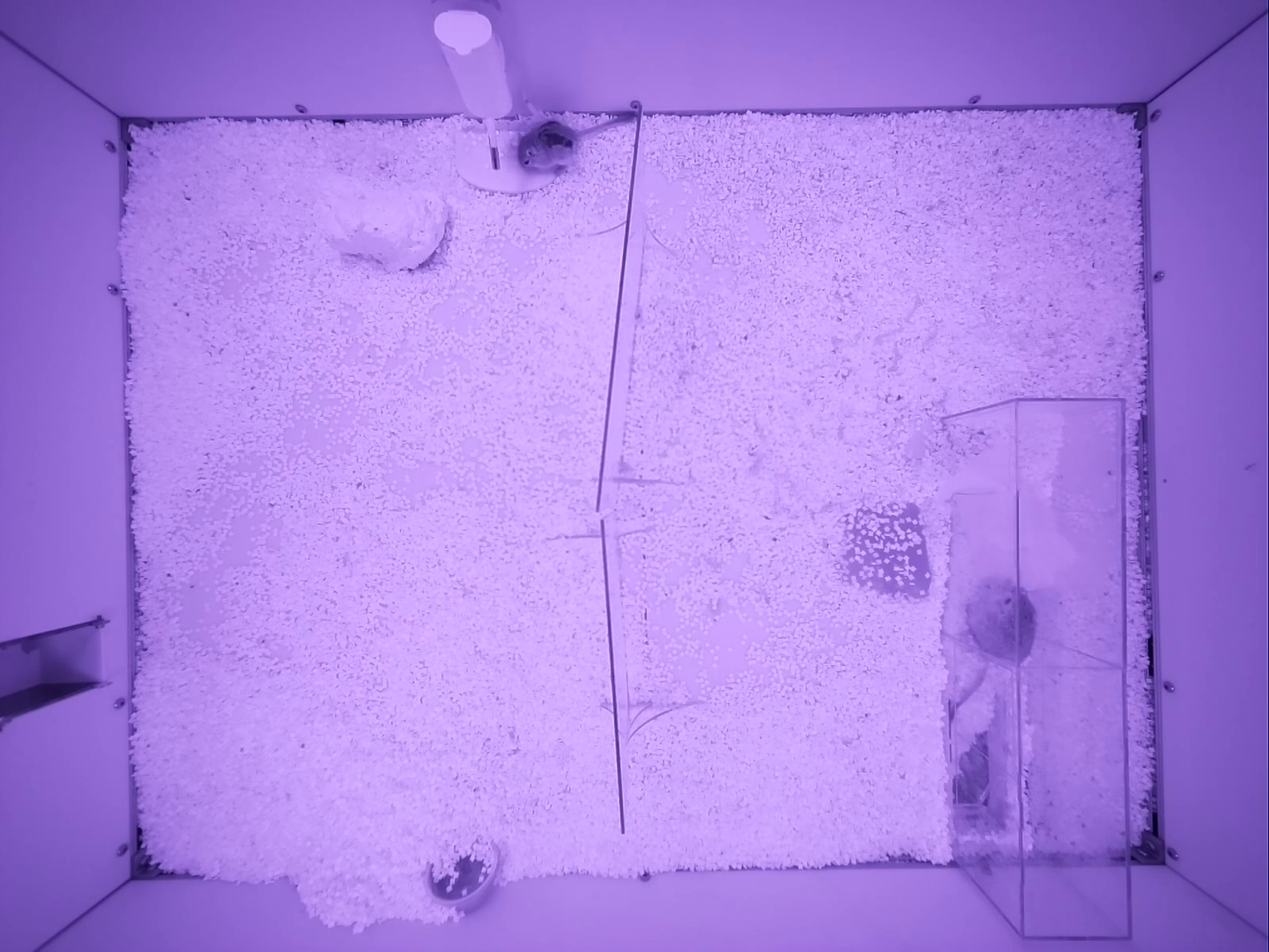adult_back: (947, 576, 1035, 713), (517, 115, 633, 169)
